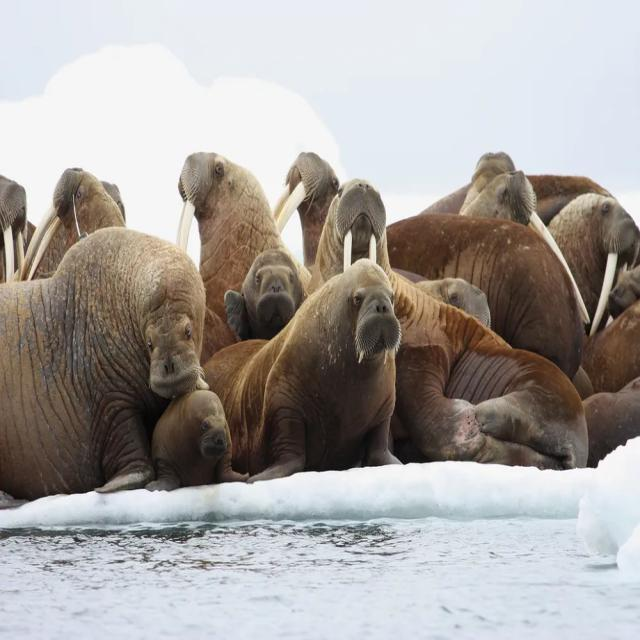walrus: (8, 230, 222, 478), (245, 270, 429, 480)
